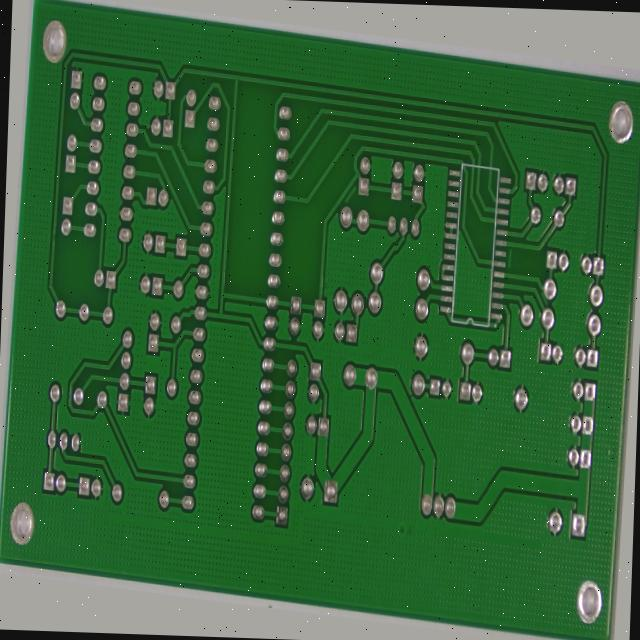spurious_copper: (337, 164, 356, 194), (507, 218, 517, 246), (543, 261, 555, 281)
